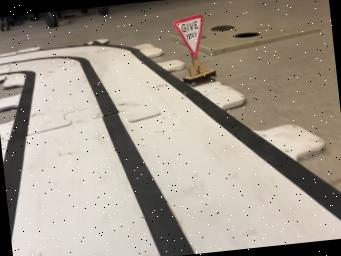give_way: (173, 14, 215, 87), (173, 14, 215, 87), (173, 14, 215, 87), (173, 14, 215, 87), (173, 14, 215, 87), (173, 14, 215, 87)
street: (0, 43, 341, 256), (0, 43, 341, 256), (0, 43, 341, 256), (0, 43, 341, 256), (0, 43, 341, 256), (0, 43, 341, 256)
